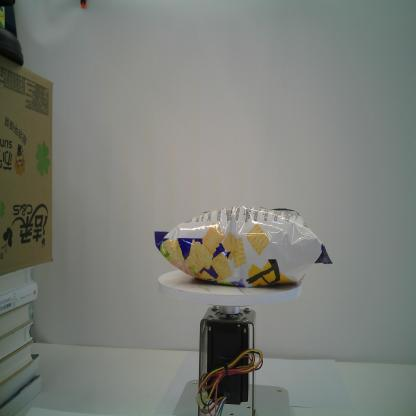Puffed Food: (151, 203, 334, 291)
